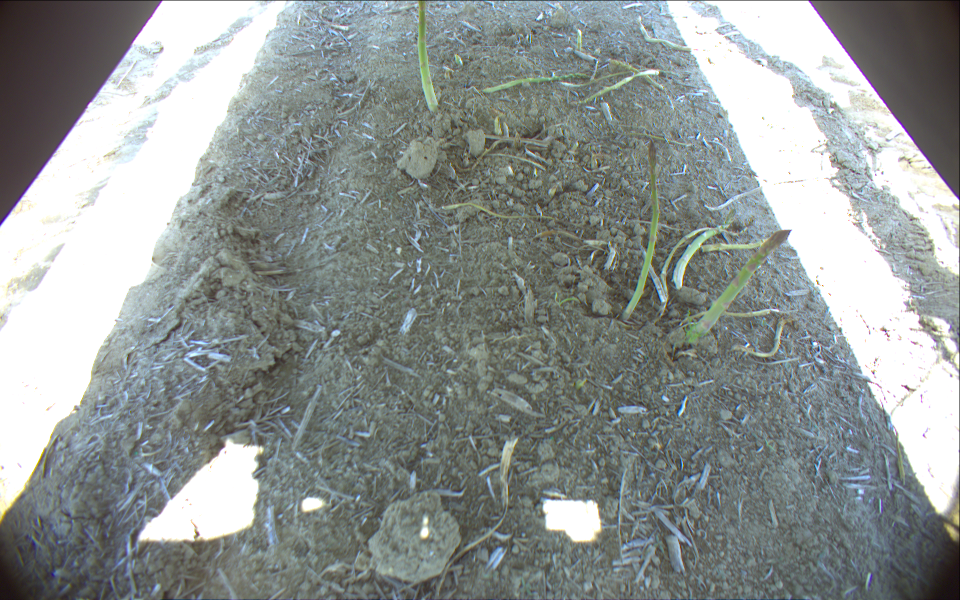aspa: (688, 226, 794, 344), (617, 137, 663, 325), (416, 1, 443, 115)
